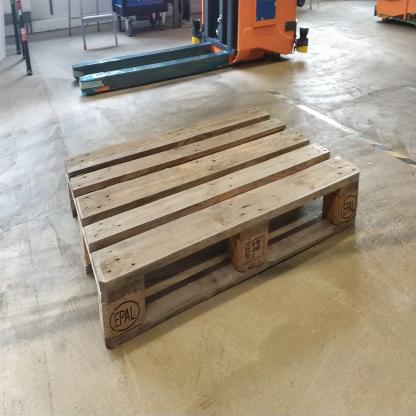BoxFace: (61, 100, 364, 360)
